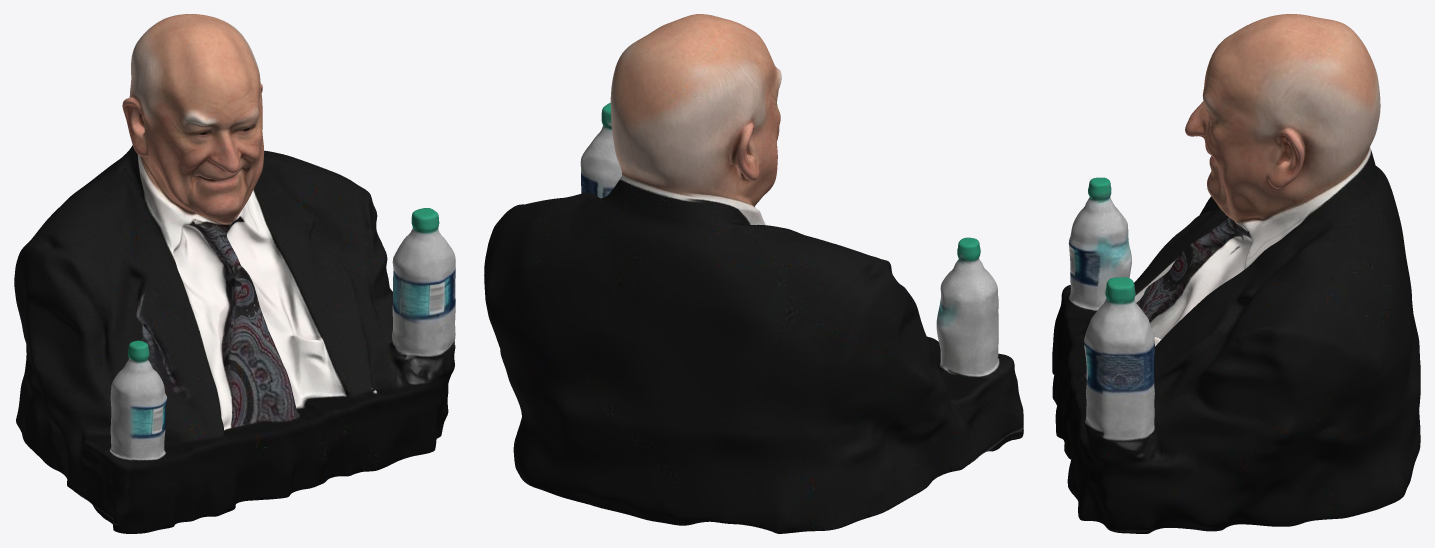
3 renders of one model, left to right at view 1: azimuth 30°, elevation 25°; view 2: azimuth 150°, elevation 25°; view 3: azimuth 270°, elevation 25°, orthographic. The views are drawn at different scales.
Size of the model in its own units: 1.86 by 1.9 by 1.49.
1 material, 1 textured.
